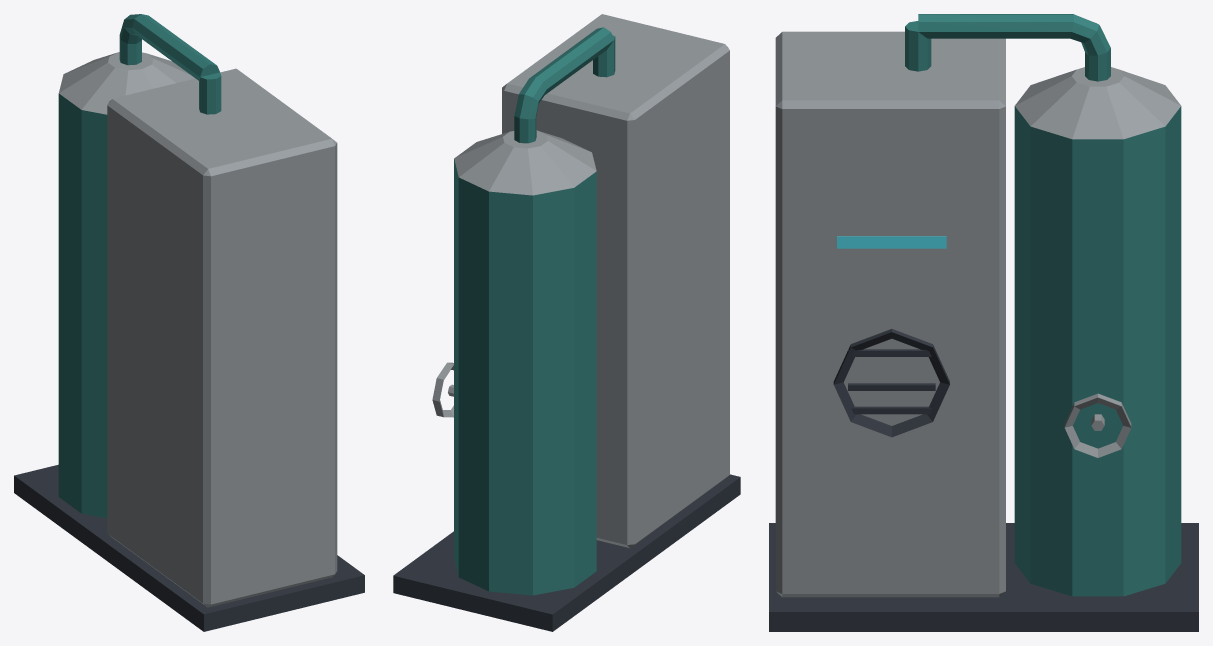
File: oxygen_generator.obj
3 renders of one model, left to right at view 1: azimuth 30°, elevation 25°; view 2: azimuth 150°, elevation 25°; view 3: azimuth 270°, elevation 25°, orthographic. The views are drawn at different scales.
Parts seen in each view (by area): view 1: body; view 2: body; view 3: body.
Part boxes in pixels (x1,y1,x2,y2): body: [14, 14, 364, 631]; body: [393, 14, 740, 631]; body: [769, 14, 1198, 631].
Size of the model in its own units: 0.96 by 2.86 by 1.96.
